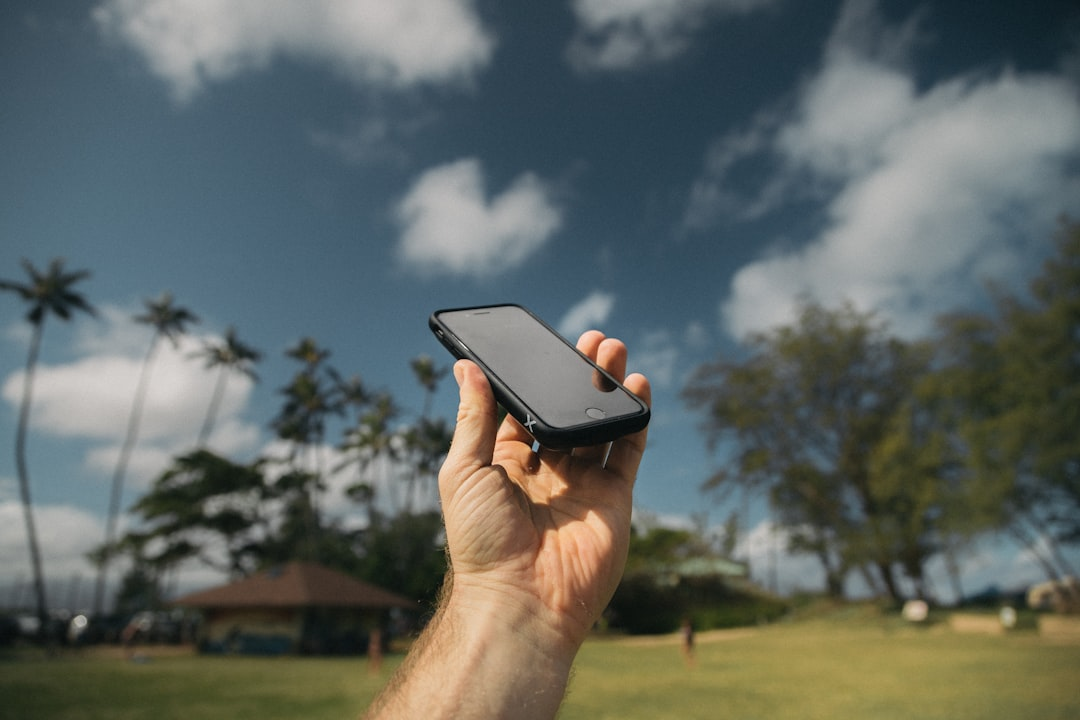phone: (425, 302, 653, 449)
